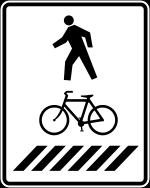Cycle Crossing: (12, 10, 141, 177)
